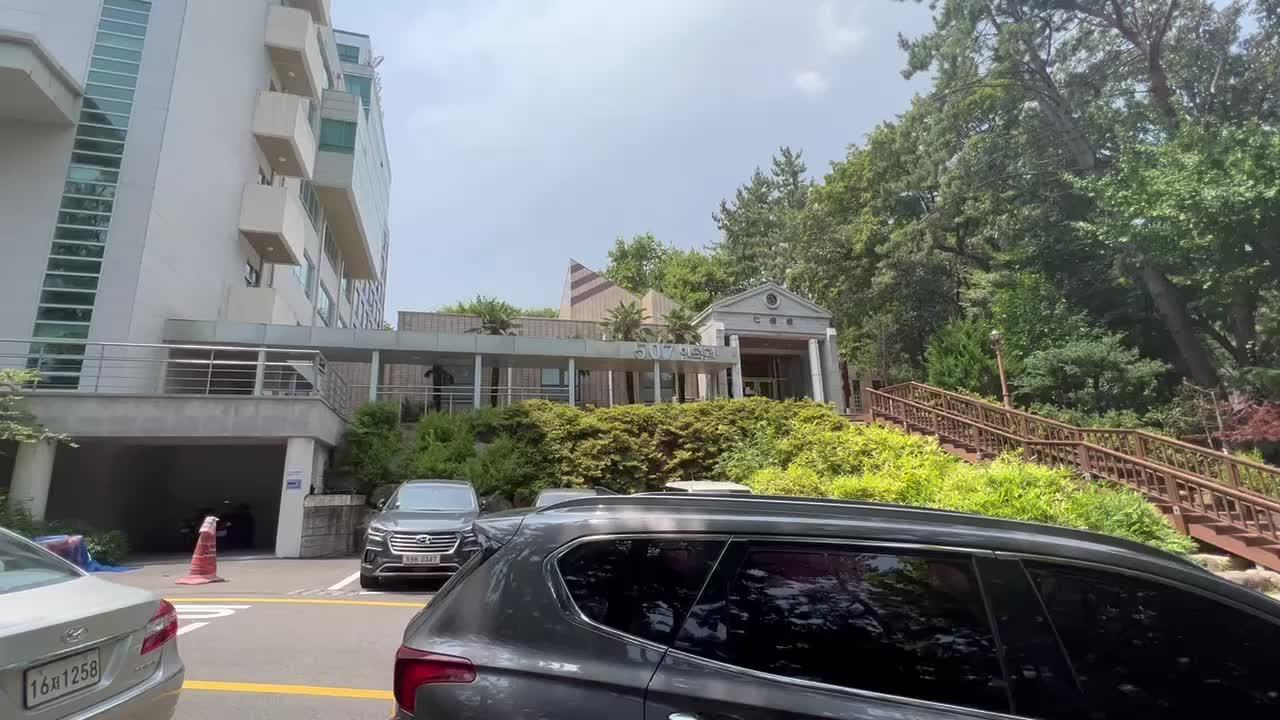building: (388, 247, 879, 434)
